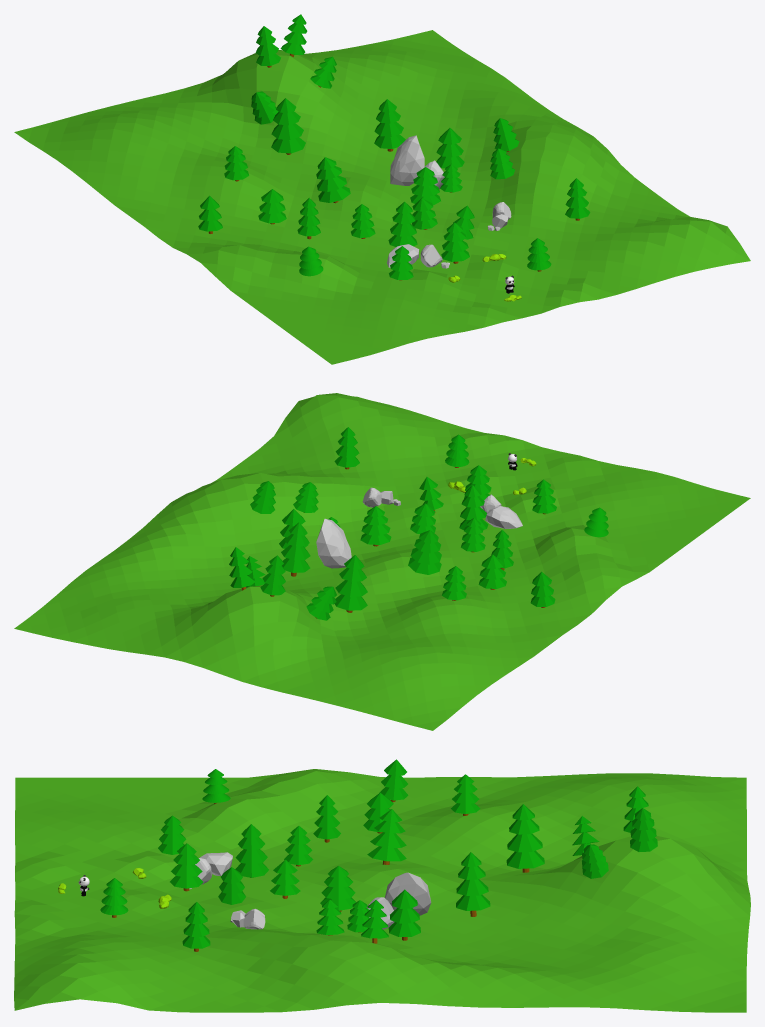
Rendered from mpanda.glb.
3 views of the same model, one above another, from view 1: azimuth 30°, elevation 25°; view 2: azimuth 150°, elevation 25°; view 3: azimuth 270°, elevation 25° (orthographic). The views are drawn at different scales.
Visible parts, largest first — view 1: Ground, Cylinder.018, rock1.001, Cylinder.009, Cylinder.024, Cylinder.004, Cylinder, Cylinder.011, Cylinder.003, Cylinder.006, Cylinder.019, Cylinder.020 (+10 smaller); view 2: Ground, Cylinder.018, rock1.001, Cylinder.009, Cylinder.024, Cylinder.003, Cylinder.004, Cylinder.006, Cylinder.019, Cylinder.020, Cylinder.016, Cylinder.023 (+9 smaller); view 3: Ground, Cylinder.018, Cylinder.024, Cylinder.009, Cylinder.004, Cylinder.011, rock1.001, Cylinder, Cylinder.003, Cylinder.023, Cylinder.020, Cylinder.007 (+16 smaller).
Boxes of the visible parts, x1,y1,x2,y2 form: Ground: [14, 30, 750, 364]; Cylinder.018: [271, 98, 305, 154]; rock1.001: [390, 135, 424, 185]; Cylinder.009: [316, 157, 350, 203]; Cylinder.024: [374, 99, 405, 151]; Cylinder.004: [388, 201, 417, 246]; Cylinder: [441, 222, 469, 263]; Cylinder.011: [436, 128, 464, 168]; Cylinder.003: [410, 167, 440, 205]; Cylinder.006: [258, 189, 286, 224]; Cylinder.019: [255, 26, 280, 67]; Cylinder.020: [565, 178, 590, 220]; Ground: [14, 393, 750, 730]; Cylinder.018: [334, 555, 367, 612]; rock1.001: [316, 518, 351, 568]; Cylinder.009: [408, 530, 441, 574]; Cylinder.024: [281, 522, 310, 576]; Cylinder.003: [360, 506, 391, 546]; Cylinder.004: [459, 485, 488, 530]; Cylinder.006: [478, 554, 506, 589]; Cylinder.019: [260, 555, 285, 596]; Cylinder.020: [334, 427, 359, 469]; Cylinder.016: [306, 586, 336, 620]; Cylinder.023: [229, 547, 255, 590]; Ground: [14, 769, 750, 1012]; Cylinder.018: [506, 804, 544, 872]; Cylinder.024: [456, 852, 490, 916]; Cylinder.009: [367, 809, 406, 864]; Cylinder.004: [235, 824, 268, 877]; Cylinder.011: [388, 889, 420, 940]; rock1.001: [385, 872, 431, 915]; Cylinder: [170, 843, 203, 891]; Cylinder.003: [320, 866, 355, 911]; Cylinder.023: [630, 808, 657, 851]; Cylinder.020: [182, 902, 210, 951]; Cylinder.007: [313, 795, 340, 842].
Bounding box in the file's own units: 92.8 × 20.04 × 121.
10 materials, 2 textured.
